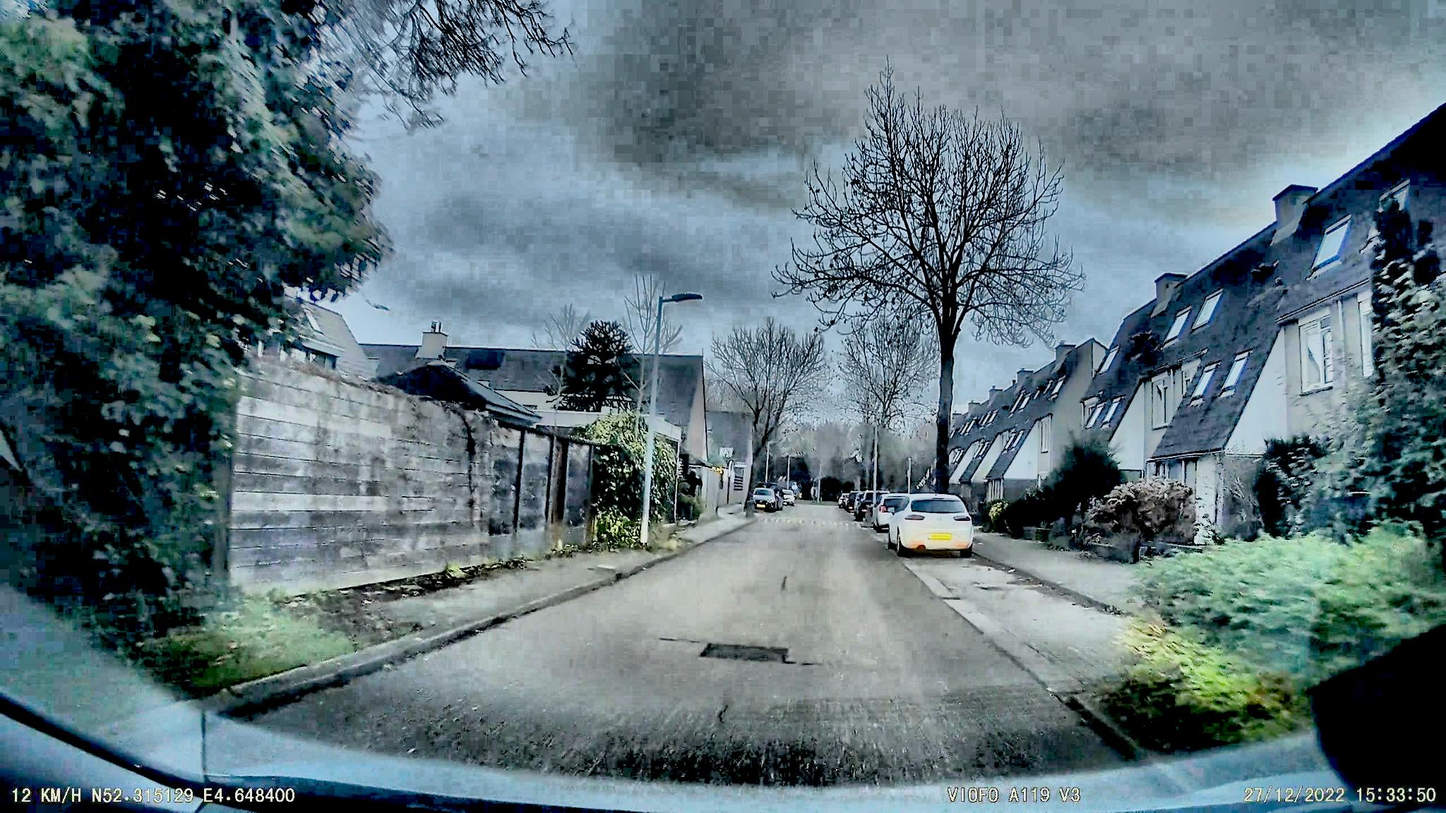Roads: (261, 505, 1120, 774)
